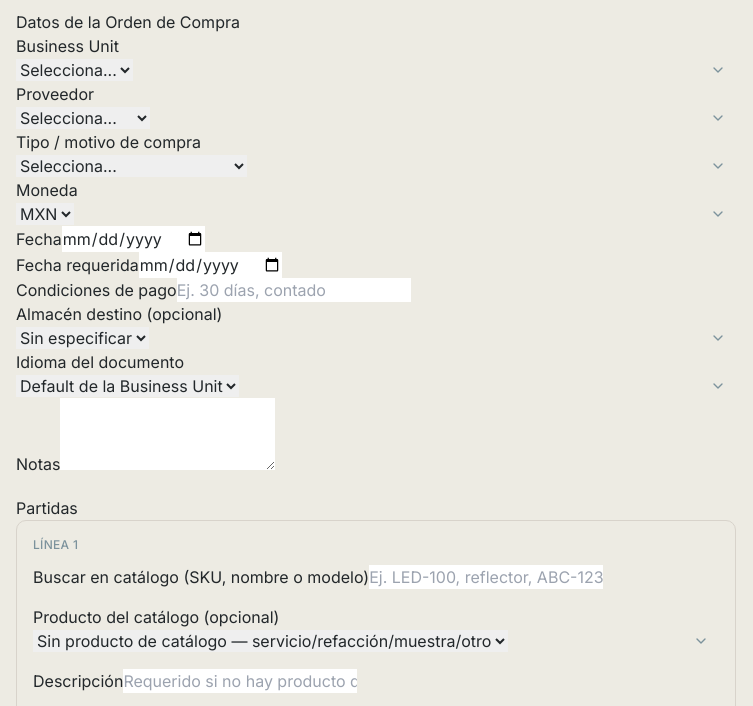
Test: DirectPurchaseOrderForm — selector de Producto del catálogo (fix bug 'catálogo incompleto') › seleccionar el producto encontrado por búsqueda funciona (no solo se muestra, también se puede elegir)
Type "ZZZ-9999" into the field labelled "Buscar en catálogo (SKU, nombre o modelo)" at (486, 577), box [369,565,603,589]
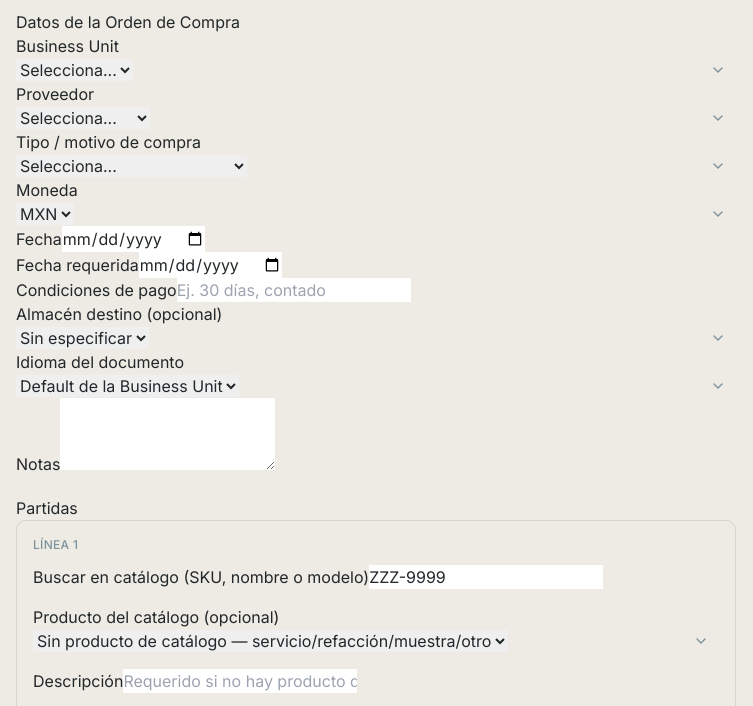
Select "ZZZ-9999 — Reflector especial Z" in the dropdown labelled "Producto del catálogo (opcional)" at (270, 641), box [33,630,508,652]
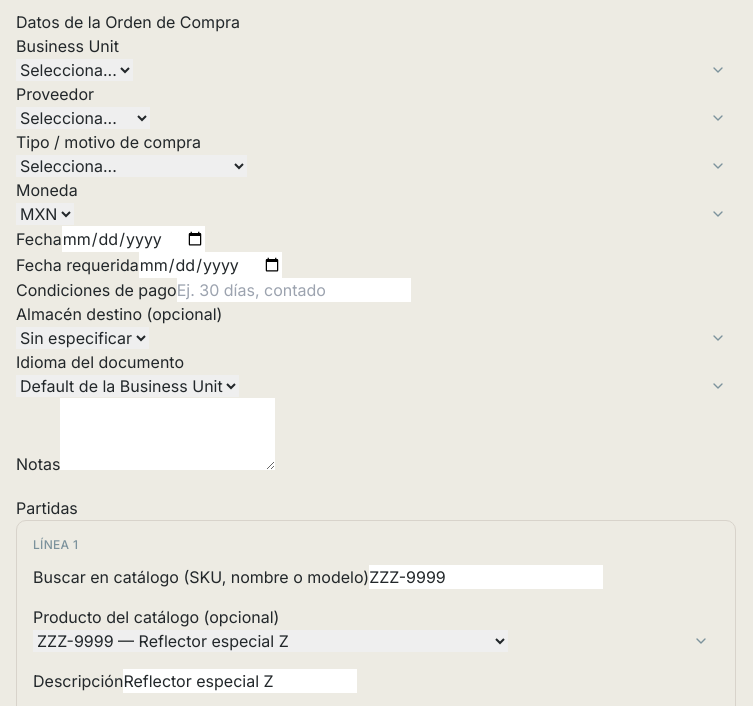
Expected: the field labelled "Descripción" holds "Reflector especial Z", [123,669,357,693]
